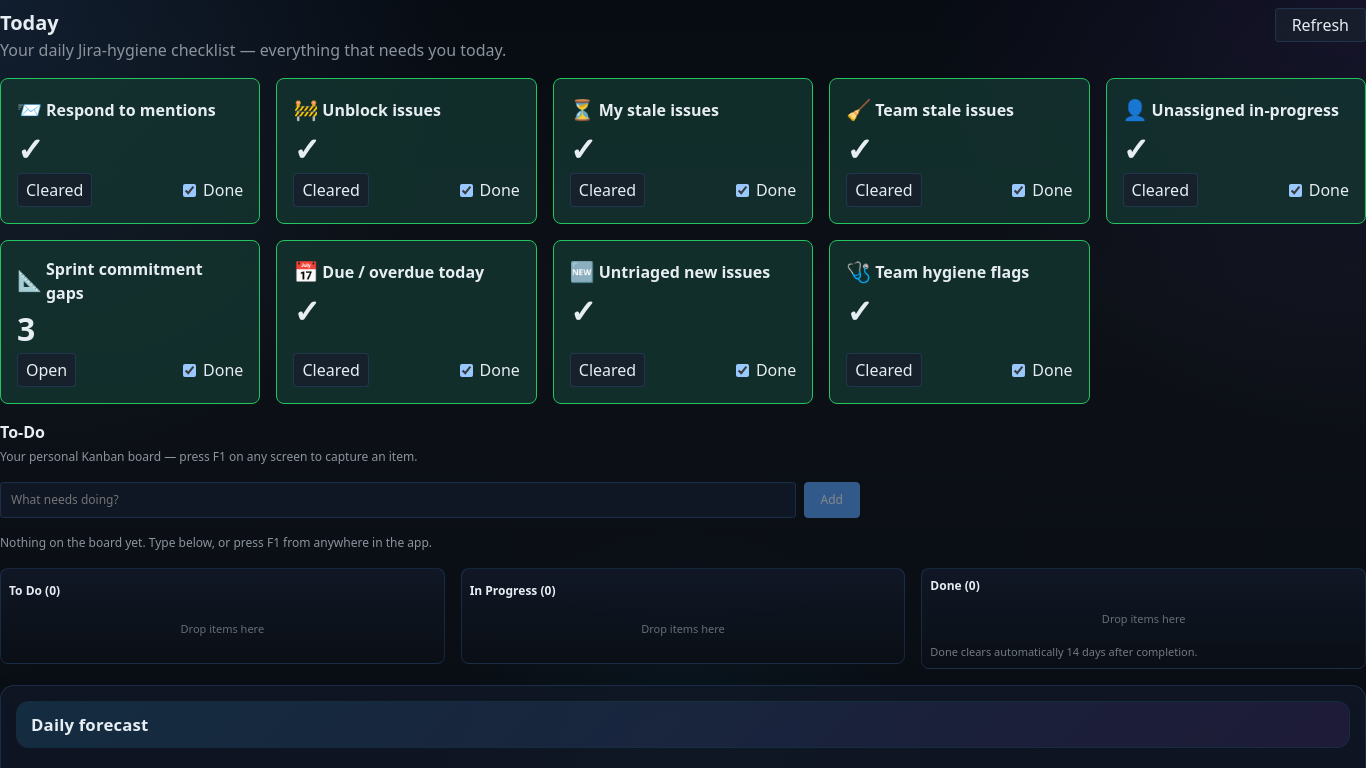
Test: TodayDashboard › carries the check filter to the Sprint Dashboard hygiene tab, so team cards do not all land on one identical view (GH #177)
Click the button "Open" at (47, 370), box [17,353,76,387]
(page scrolled)
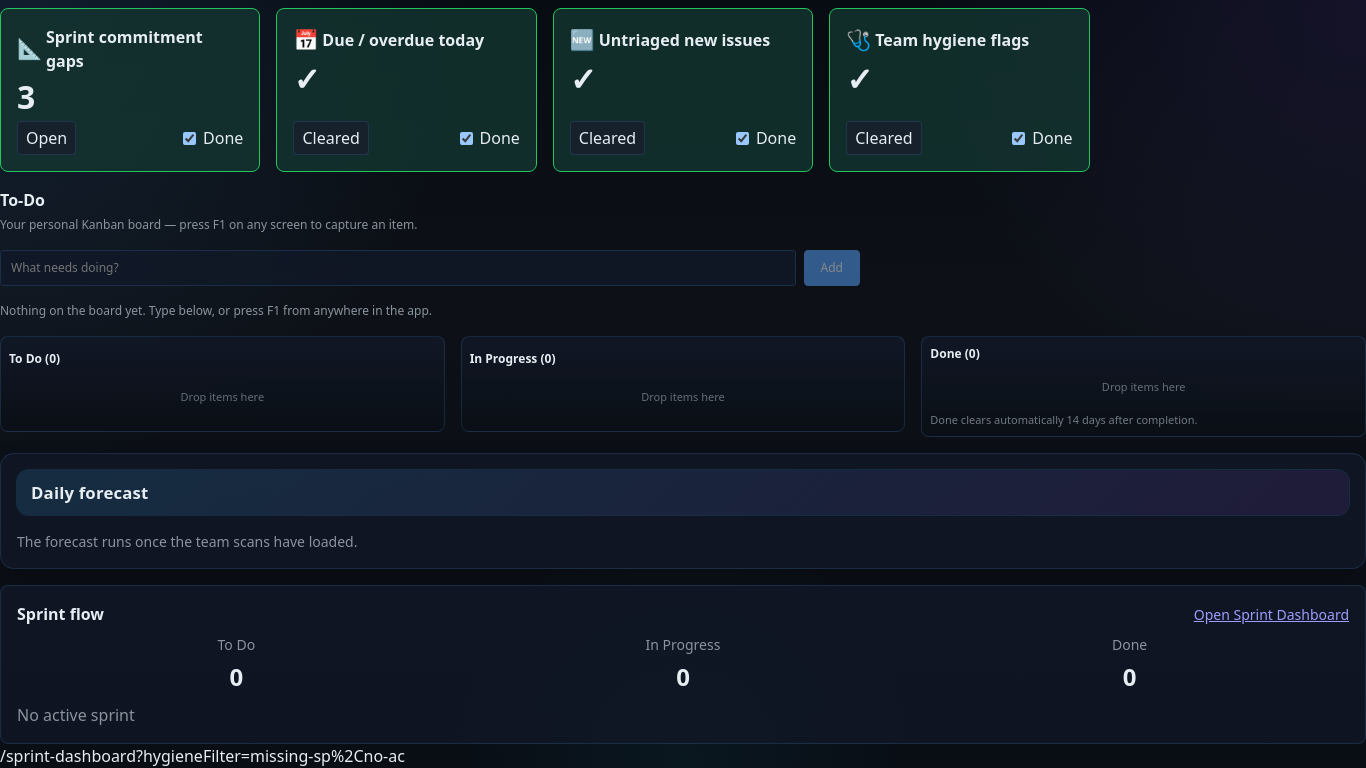
Check: the text with test id "location-probe" reads "/sprint-dashboard?hygieneFilter=missing-sp%2Cno-ac", box [0,745,405,767]
